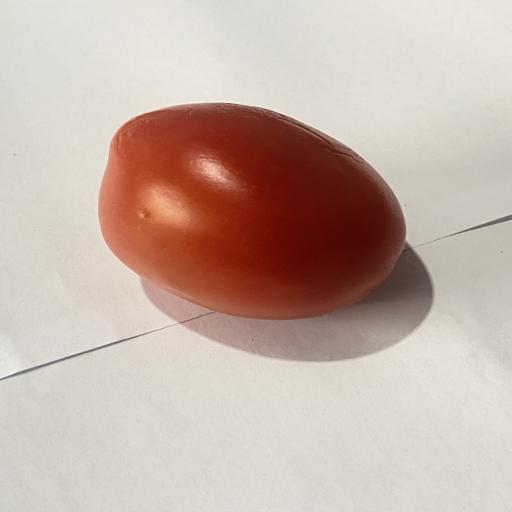spoiled: (99, 103, 406, 319)
